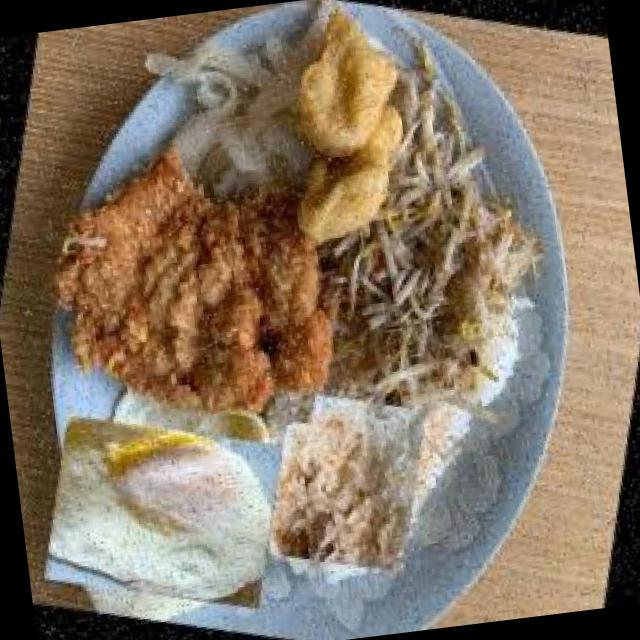chicken_nuggets: (261, 20, 434, 254)
fried_chicken: (13, 120, 372, 457)
fried_eggs: (31, 381, 293, 640)
mung_bean_sprouts: (320, 94, 531, 418)
rice: (246, 376, 446, 590)
